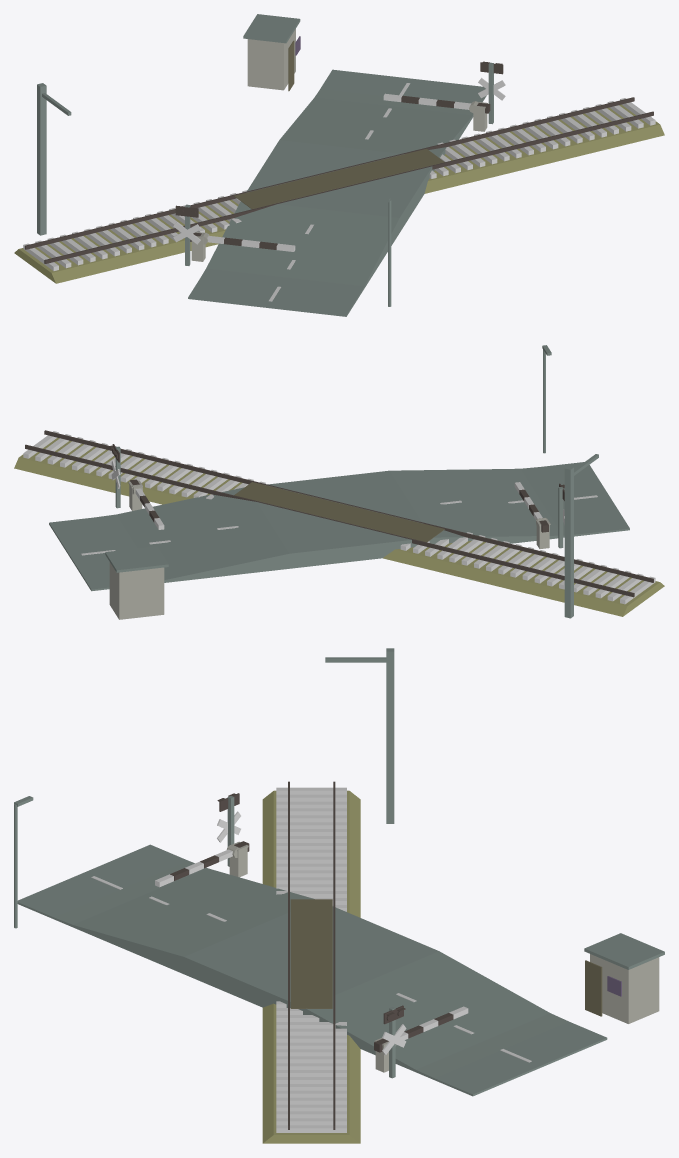
File: SM_PasoNivel_45E_v4_Catenaria_LOD0.fbx
The picture shows the model from 3 angles, top to bottom: view 1: azimuth 30°, elevation 25°; view 2: azimuth 150°, elevation 25°; view 3: azimuth 270°, elevation 25°; orthographic projection. The views are drawn at different scales.
Parts seen in each view (by area): view 1: SM_paso_nivel_kit_v34_LOD0, Barrera_1, Barrera_2; view 2: SM_paso_nivel_kit_v34_LOD0, Barrera_1, Barrera_2; view 3: SM_paso_nivel_kit_v34_LOD0, Barrera_2, Barrera_1.
Boxes of the visible parts, x1,y1,x2,y2 form: SM_paso_nivel_kit_v34_LOD0: [14, 14, 664, 316]; Barrera_1: [383, 93, 490, 113]; Barrera_2: [190, 232, 295, 251]; SM_paso_nivel_kit_v34_LOD0: [14, 345, 664, 619]; Barrera_1: [130, 479, 164, 529]; Barrera_2: [514, 482, 548, 532]; SM_paso_nivel_kit_v34_LOD0: [14, 648, 664, 1143]; Barrera_2: [155, 841, 249, 887]; Barrera_1: [374, 1006, 468, 1052].
Size of the model in its own units: 30 by 7 by 23.97.
